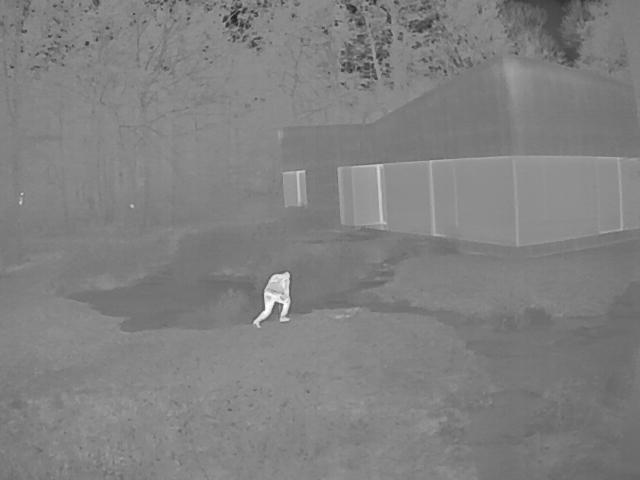person: (254, 271, 292, 328)
